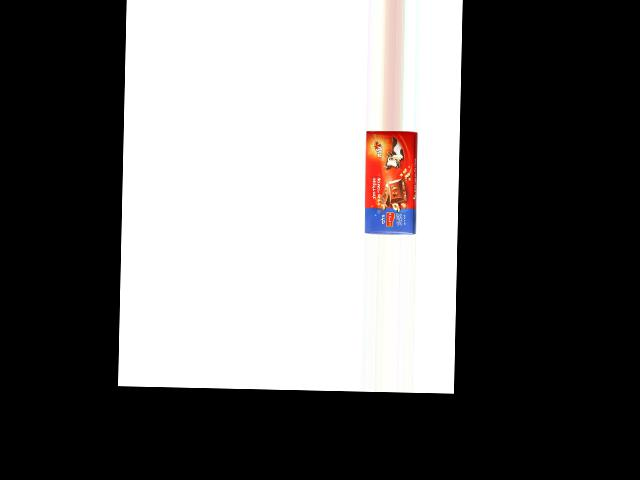chocolate: (365, 130, 422, 233)
